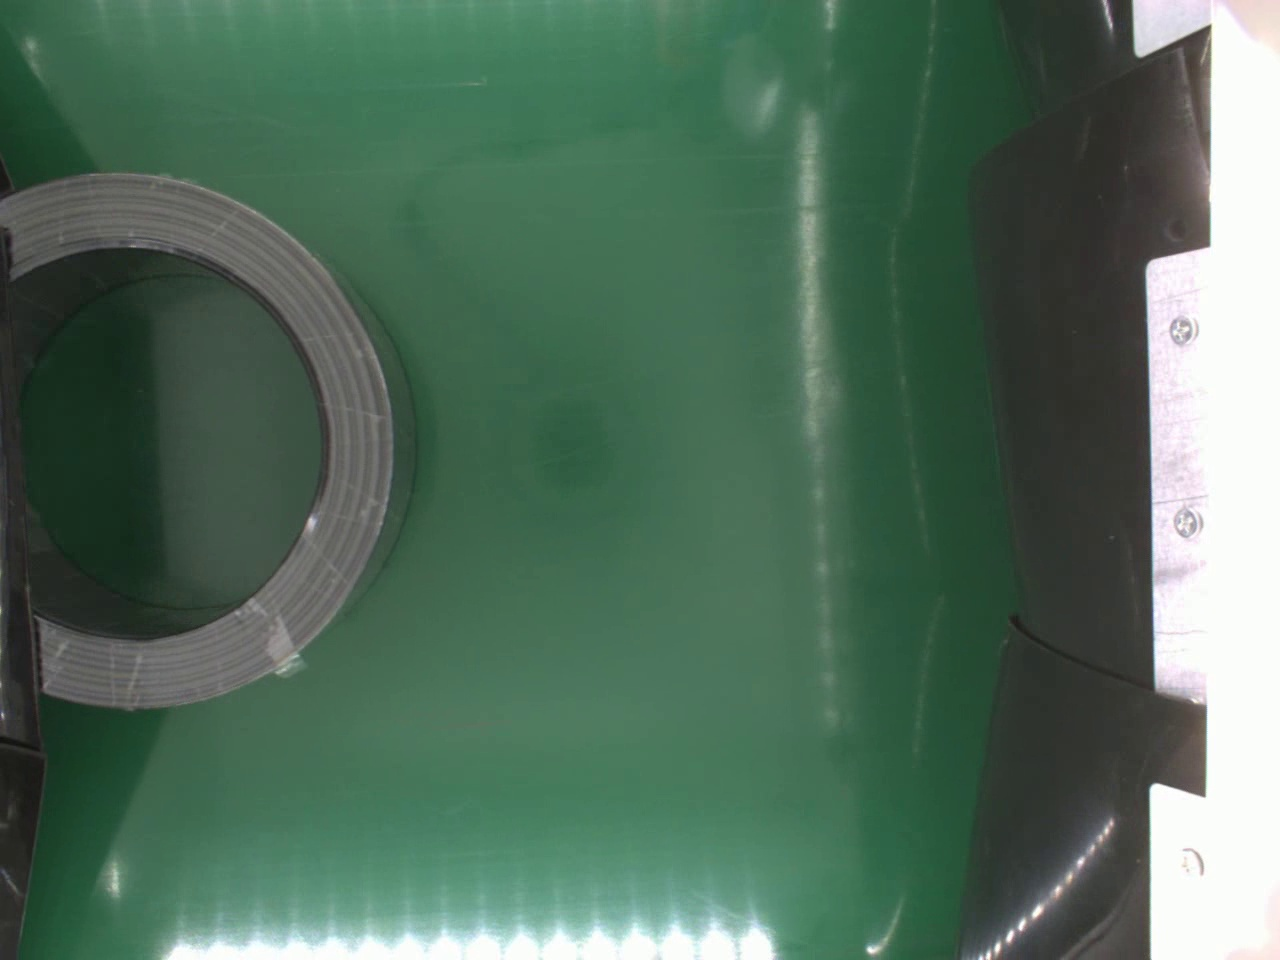black: (0, 168, 419, 716)
